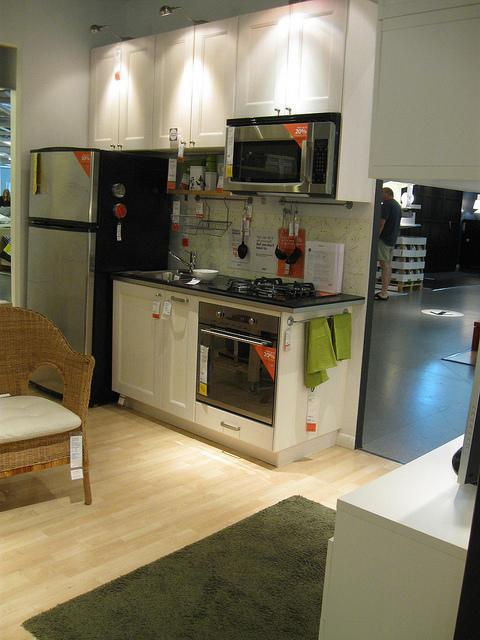Lavaplatos: (138, 248, 210, 297)
